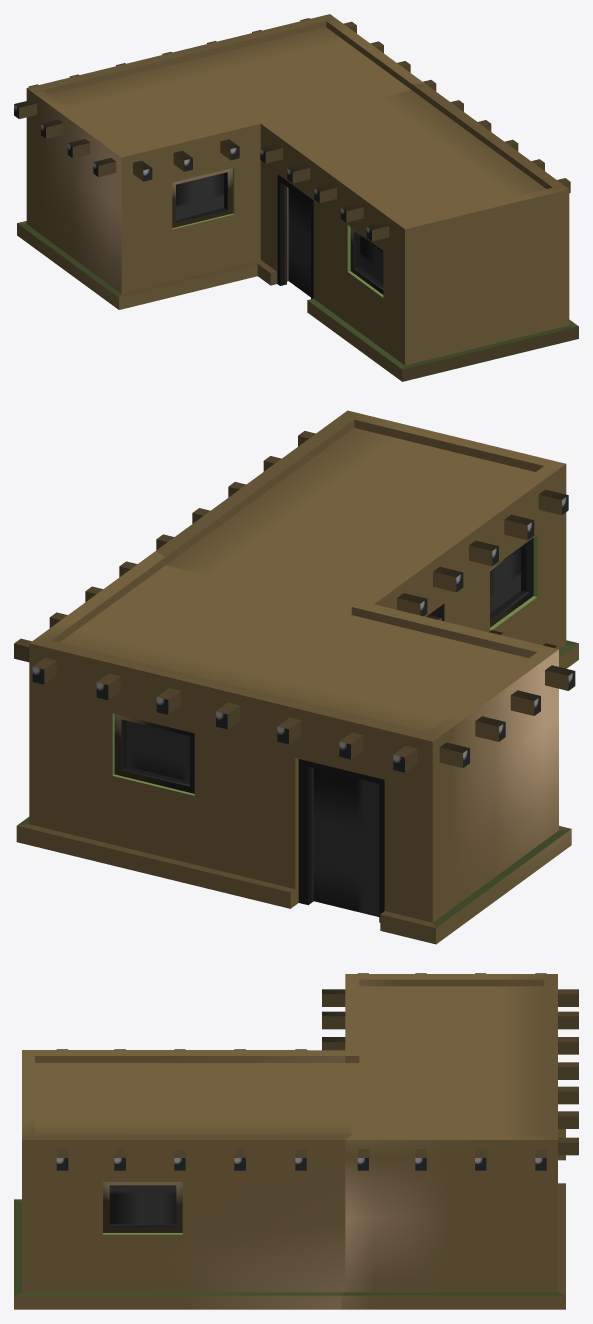
File: SM_Bld_Mud_Hut_02.gltf
The picture shows the model from 3 angles, top to bottom: view 1: azimuth 30°, elevation 25°; view 2: azimuth 150°, elevation 25°; view 3: azimuth 270°, elevation 25°; orthographic projection. The views are drawn at different scales.
Parts seen in each view (by area): view 1: SM_Bld_Mud_Hut_02; view 2: SM_Bld_Mud_Hut_02; view 3: SM_Bld_Mud_Hut_02.
Part boxes in pixels (x1=…): SM_Bld_Mud_Hut_02: x1=14, y1=14, x2=578, y2=381; SM_Bld_Mud_Hut_02: x1=14, y1=410, x2=578, y2=944; SM_Bld_Mud_Hut_02: x1=14, y1=973, x2=578, y2=1309.
Bounding box in the file's own units: 10.92 × 4.59 × 14.12.
1 material, 1 textured.
